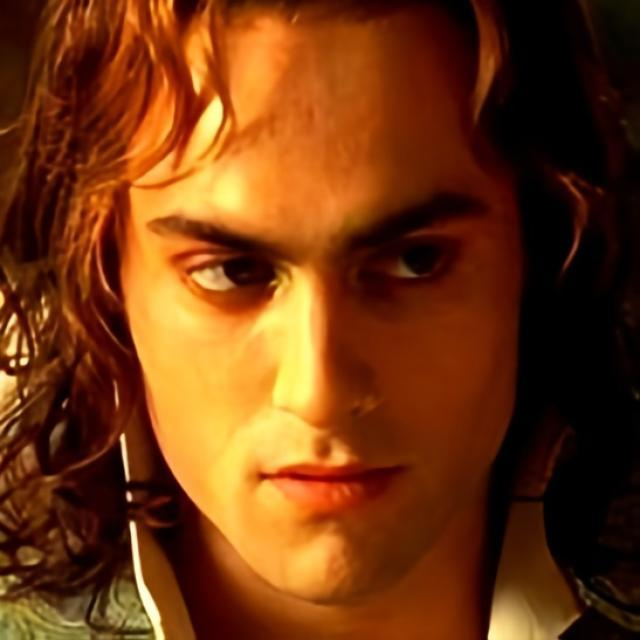anger: (117, 2, 522, 612)
